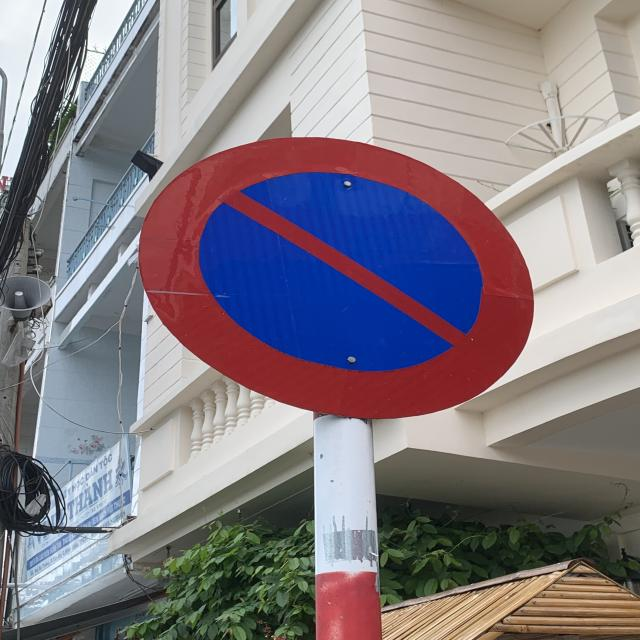Cam_Dau_Xe: (136, 133, 536, 413)
